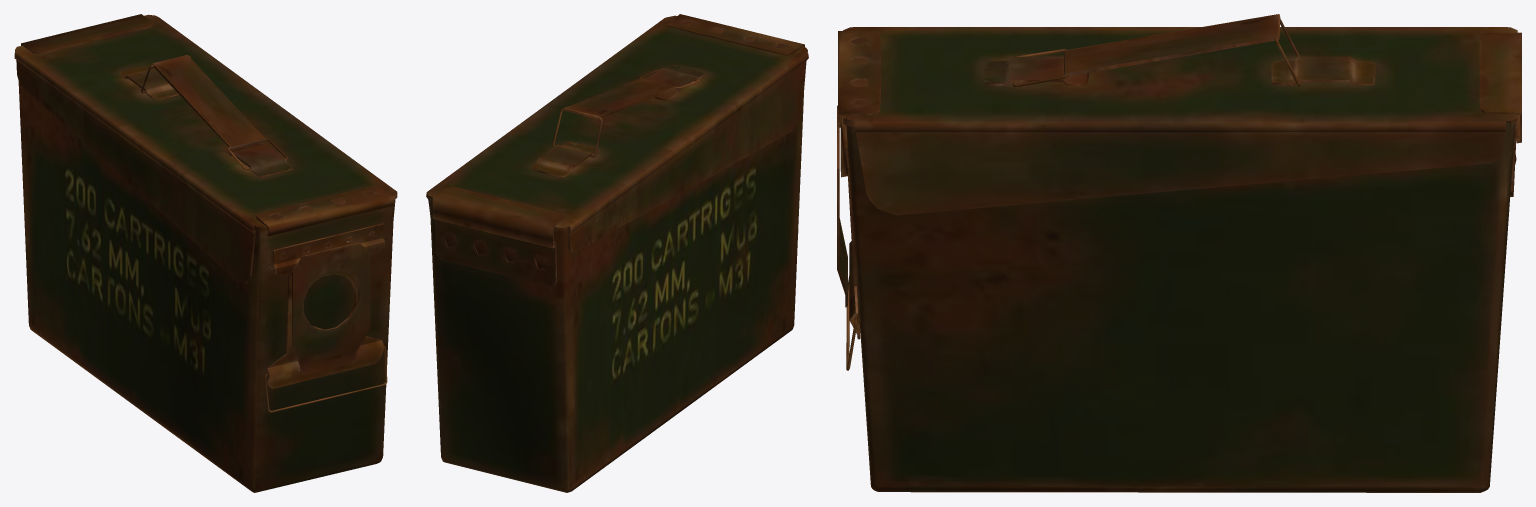
The model's file is ammo_box.glb.
3 views of the same model, side by side, from view 1: azimuth 30°, elevation 25°; view 2: azimuth 150°, elevation 25°; view 3: azimuth 270°, elevation 25° (orthographic). The views are drawn at different scales.
Visible parts, largest first — view 1: ammo_box, ammo_box_handle, ammo_box_latch; view 2: ammo_box, ammo_box_handle; view 3: ammo_box, ammo_box_handle.
Part boxes in pixels (box(x1,y1,x2,y2)): ammo_box: box(14, 14, 397, 492); ammo_box_handle: box(152, 54, 265, 149); ammo_box_latch: box(264, 346, 387, 412); ammo_box: box(426, 14, 808, 492); ammo_box_handle: box(564, 78, 676, 119); ammo_box: box(837, 27, 1521, 492); ammo_box_handle: box(1064, 14, 1280, 76).
Size of the model in its own units: 0.0865 by 0.1773 by 0.2576.
1 material, 1 textured.
